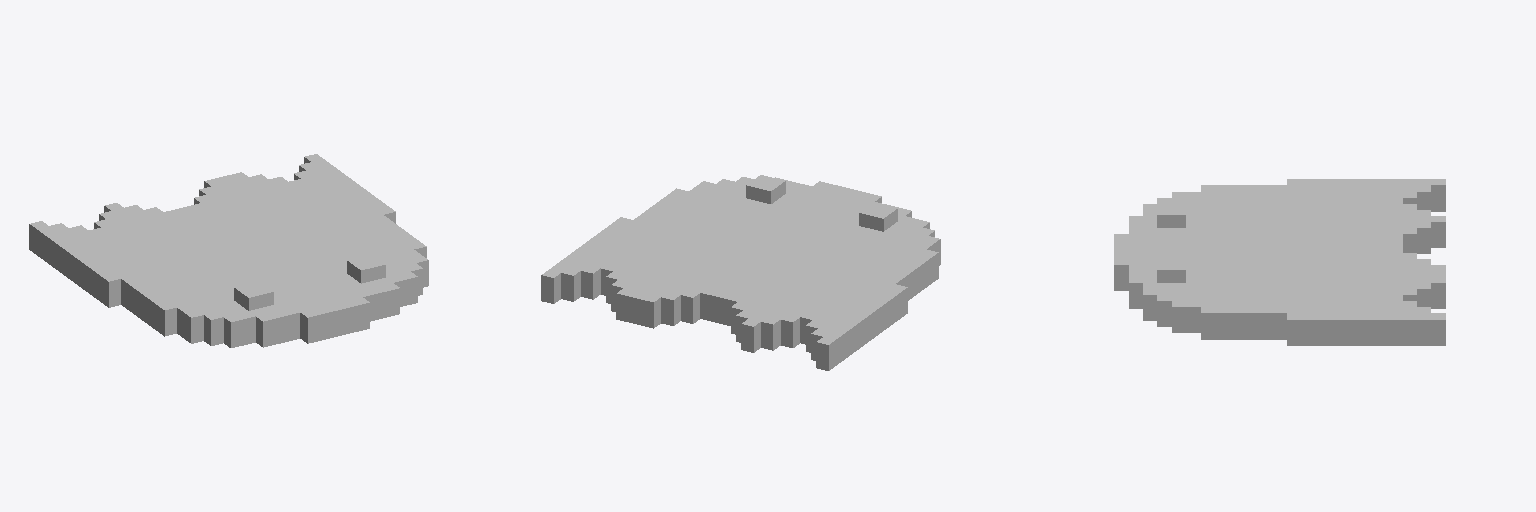
The model's file is Ghost Up.obj.
3 views of the same model, side by side, from view 1: azimuth 30°, elevation 25°; view 2: azimuth 150°, elevation 25°; view 3: azimuth 270°, elevation 25° (orthographic).
Bounding box in the file's own units: 23 × 3 × 23.